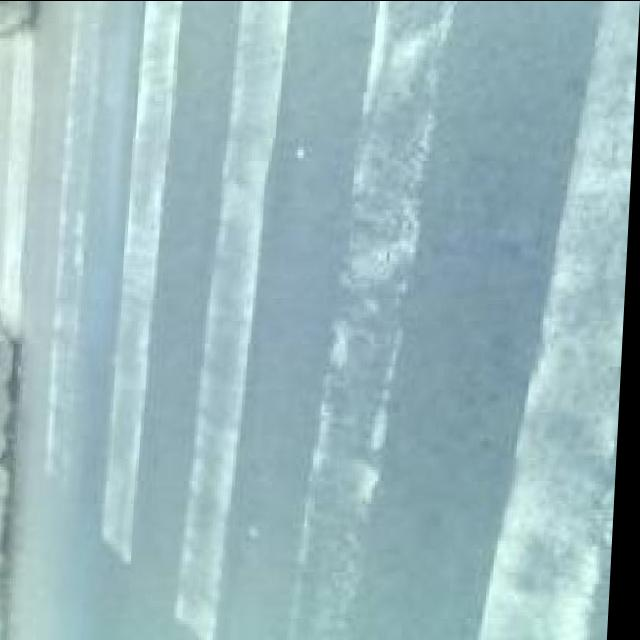zebra: (38, 24, 639, 470)
